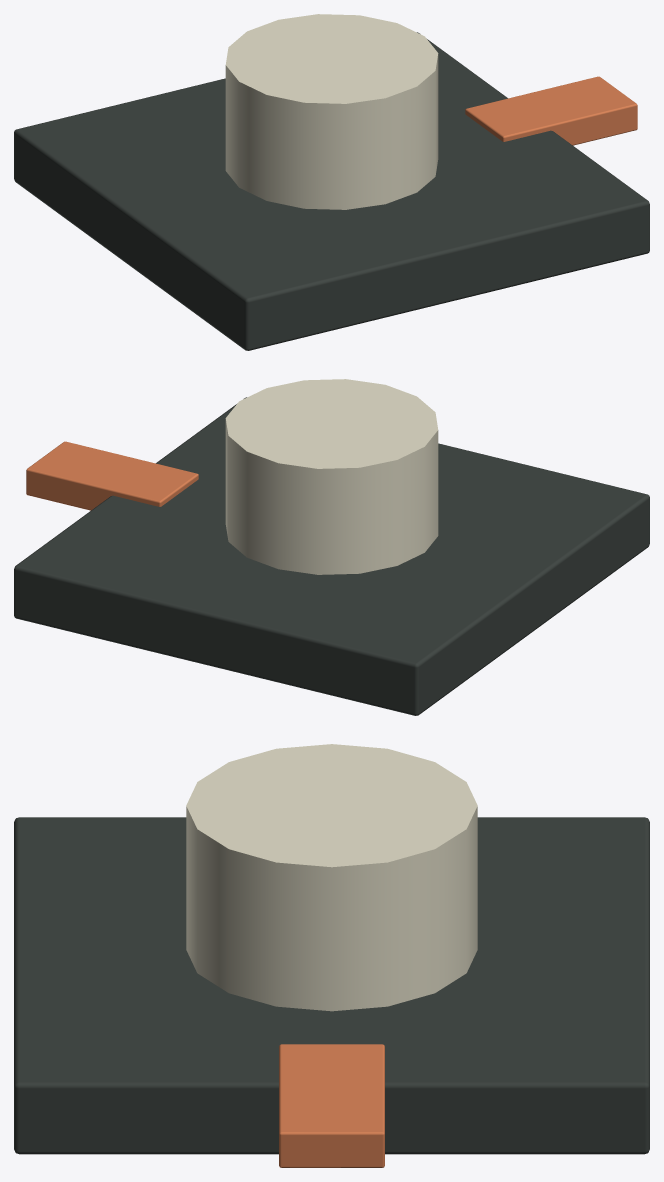
File: extraction-routes-and-objectives-landing-zone-light-8c437a27__22145.glb
3 renders of one model, top to bottom at view 1: azimuth 30°, elevation 25°; view 2: azimuth 150°, elevation 25°; view 3: azimuth 270°, elevation 25°, orthographic. The views are drawn at different scales.
Parts seen in each view (by area): view 1: landing-zone-light; view 2: landing-zone-light; view 3: landing-zone-light.
Boxes of the visible parts, bbox=[...] form: landing-zone-light: bbox=[14, 14, 649, 350]; landing-zone-light: bbox=[14, 379, 649, 715]; landing-zone-light: bbox=[14, 744, 649, 1167].
Bounding box in the file's own units: 0.29 × 0.09 × 0.24.
